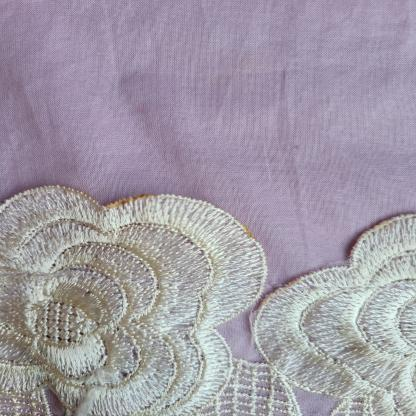spot: (98, 192, 157, 209), (271, 270, 311, 293), (230, 219, 262, 242), (371, 214, 400, 235), (256, 292, 282, 312), (59, 186, 94, 198), (293, 144, 300, 149)
